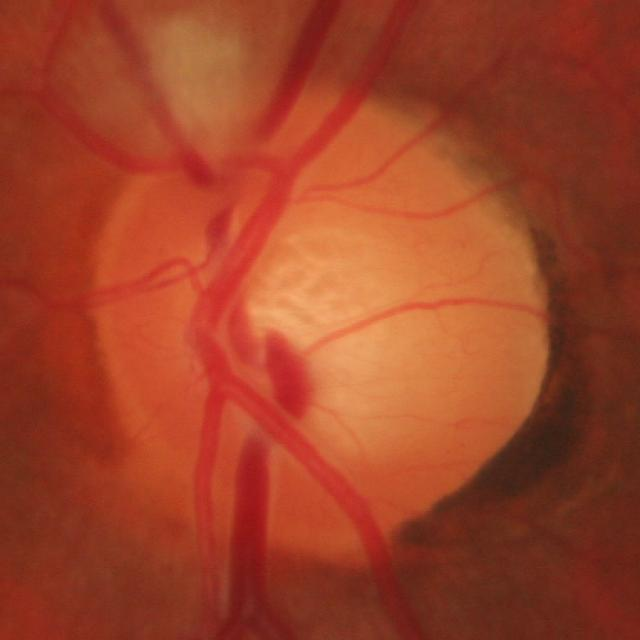OC: (210, 250, 407, 443)
OD: (92, 102, 547, 555)
